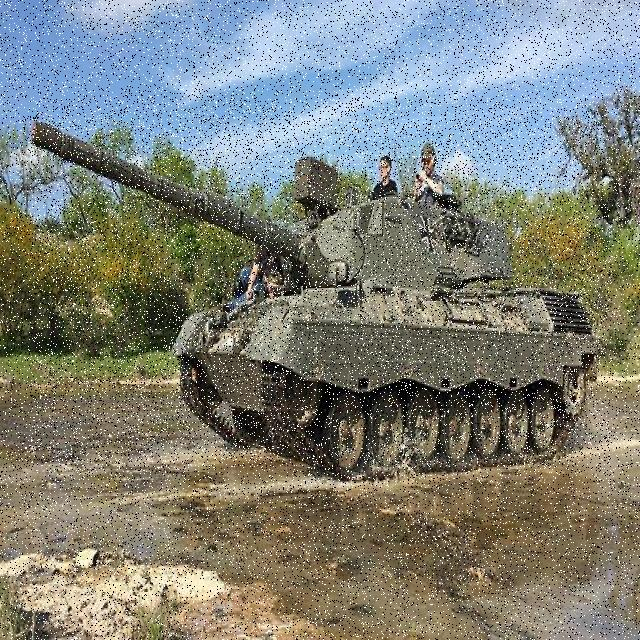MIL_MBT: (31, 100, 610, 467)
